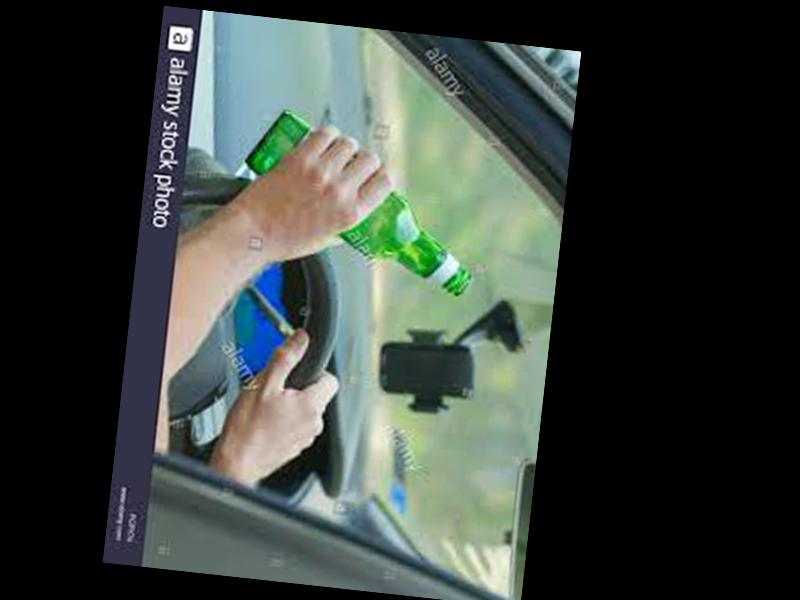Beer: (230, 112, 483, 295)
